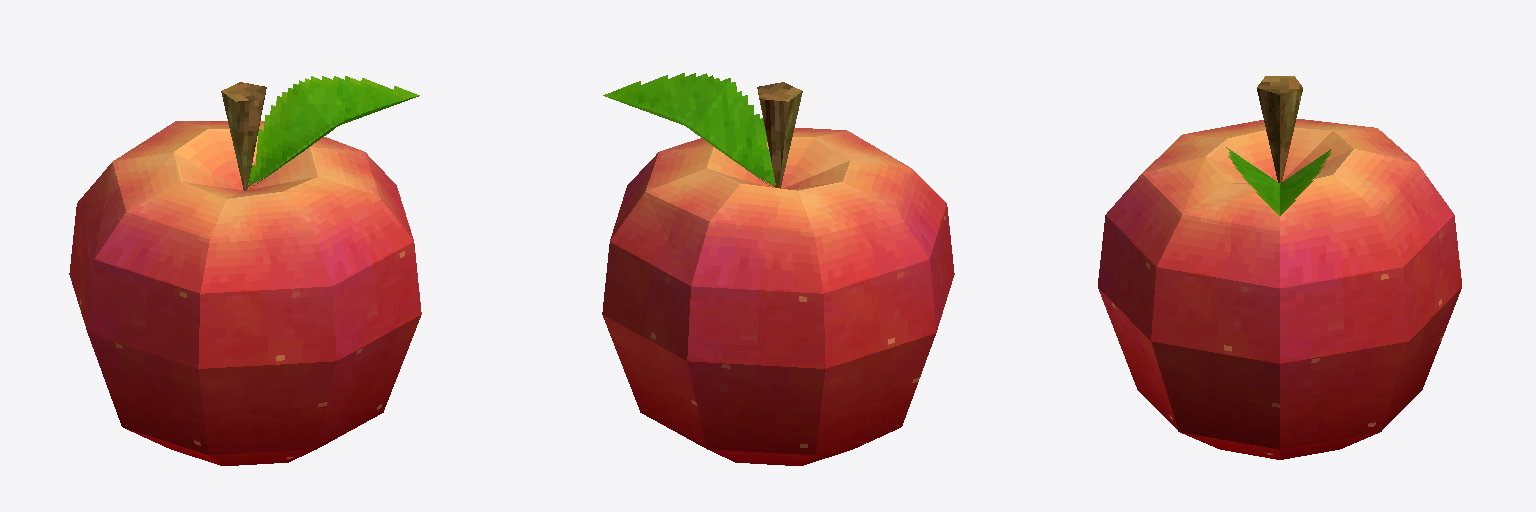
3 renders of one model, left to right at view 1: azimuth 30°, elevation 25°; view 2: azimuth 150°, elevation 25°; view 3: azimuth 270°, elevation 25°, orthographic.
Visible parts, largest first — view 1: Mesh_0102; view 2: Mesh_0102; view 3: Mesh_0102.
Part boxes in pixels (x1,y1,x2,y2): Mesh_0102: (69, 76, 421, 465); Mesh_0102: (602, 73, 954, 465); Mesh_0102: (1098, 76, 1461, 459).
Bounding box in the file's own units: 0.3309 × 0.3248 × 0.3105.
3 materials, 3 textured.